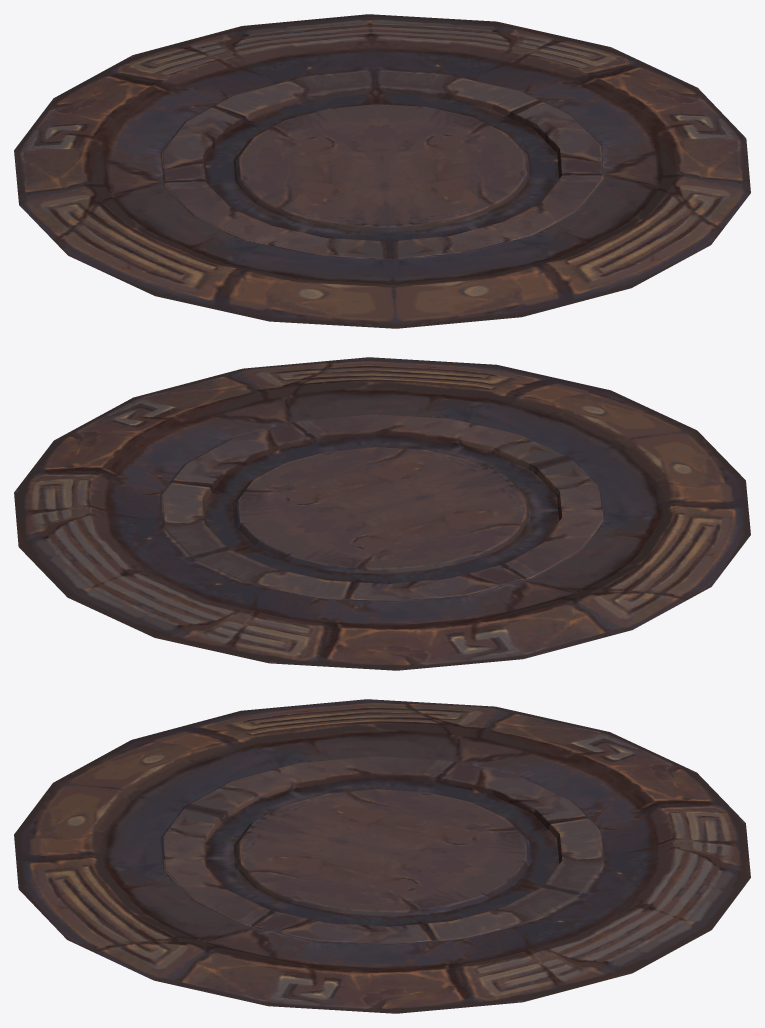
File: yw_ziyuanpingtai_yuantai_001.FBX
3 renders of one model, top to bottom at view 1: azimuth 30°, elevation 25°; view 2: azimuth 150°, elevation 25°; view 3: azimuth 270°, elevation 25°, orthographic.
Parts seen in each view (by area): view 1: yw_ziyuanpingtai_yuantai_001; view 2: yw_ziyuanpingtai_yuantai_001; view 3: yw_ziyuanpingtai_yuantai_001.
Boxes of the visible parts, x1,y1,x2,y2 form: yw_ziyuanpingtai_yuantai_001: (14, 14, 750, 328); yw_ziyuanpingtai_yuantai_001: (14, 357, 750, 670); yw_ziyuanpingtai_yuantai_001: (14, 699, 750, 1013).
Bounding box in the file's own units: 1756 × 23.56 × 1739.
